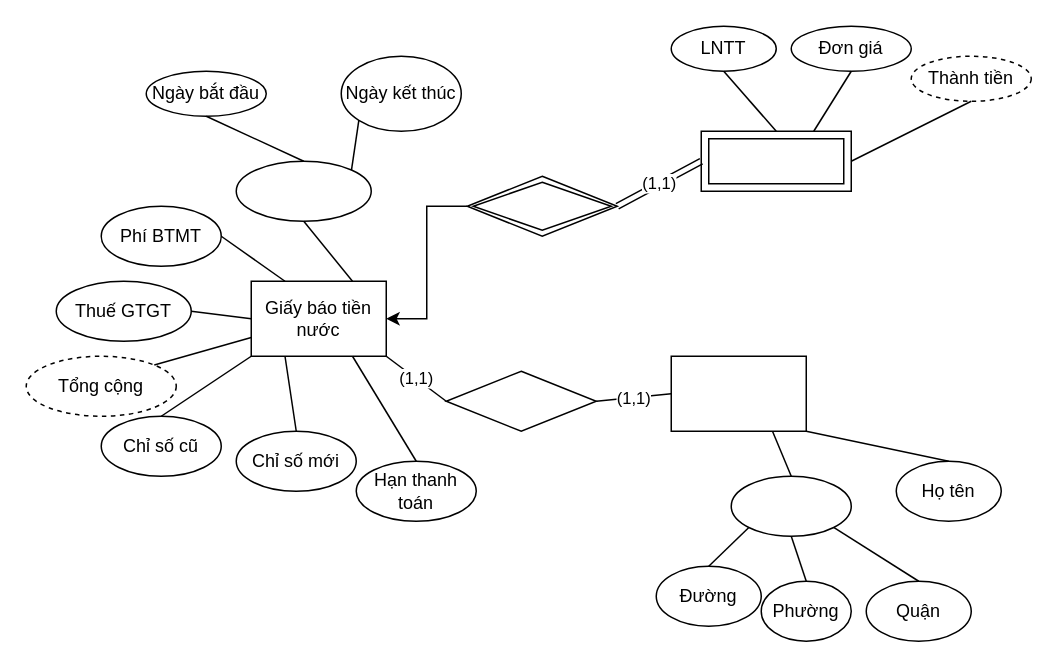
Image size: 1058x668. Some labels were removed from this diagram. Each missing label, with the centre of its shape:
"Chi tiết tiền nước" belongs at (x=775, y=160).
"Khách hàng" belongs at (x=738, y=393).
"Kì thành toán" belongs at (x=303, y=190).
"Nhận" belongs at (x=520, y=400).
"Thuộc" belongs at (x=541, y=205).
"Địa chỉ" belongs at (x=790, y=505).
